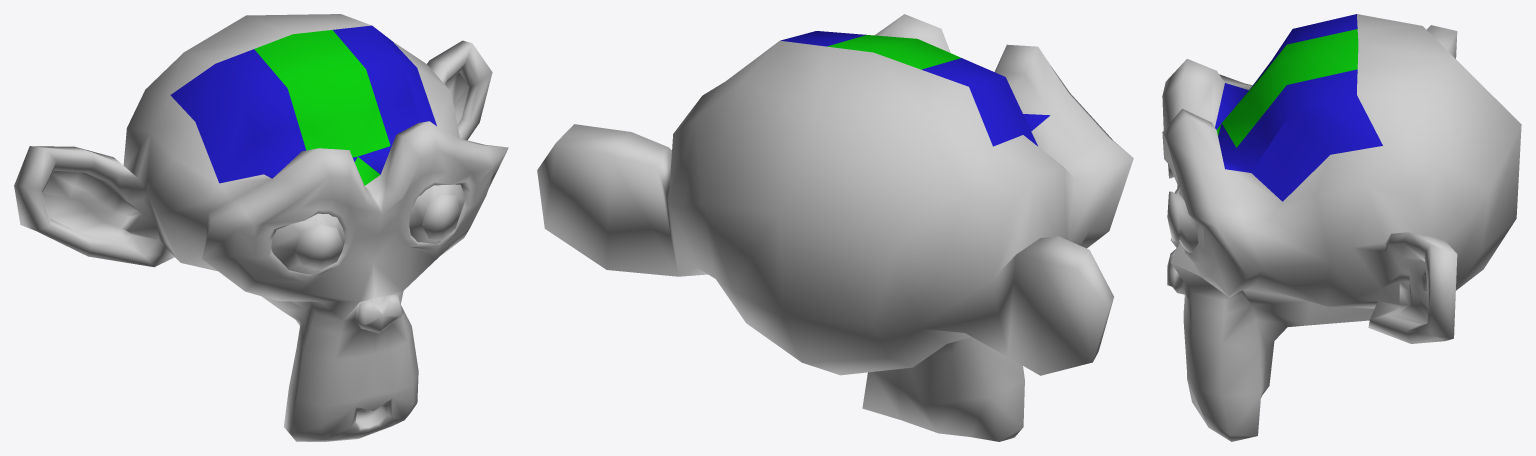
The model's file is monkey-smooth2.obj.
3 views of the same model, side by side, from view 1: azimuth 30°, elevation 25°; view 2: azimuth 150°, elevation 25°; view 3: azimuth 270°, elevation 25° (orthographic). The views are drawn at different scales.
Visible parts, largest first — view 1: Suzanne; view 2: Suzanne; view 3: Suzanne.
Boxes of the visible parts, x1,y1,x2,y2 form: Suzanne: (14, 14, 508, 441); Suzanne: (537, 14, 1133, 441); Suzanne: (1162, 14, 1521, 441).
Bounding box in the file's own units: 2.73 × 1.97 × 1.7.
